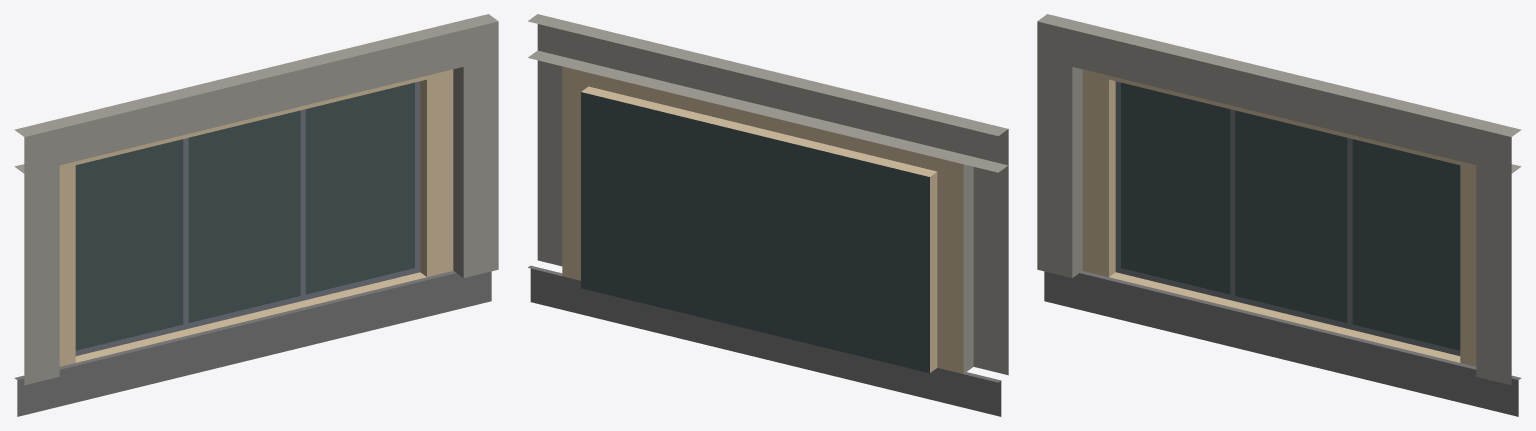
3 views of the same model, side by side, from view 1: azimuth 30°, elevation 25°; view 2: azimuth 150°, elevation 25°; view 3: azimuth 330°, elevation 25° (orthographic).
Parts seen in each view (by area): view 1: a2007/0/base-w1; view 2: a2007/0/base-w1; view 3: a2007/0/base-w1.
Part boxes in pixels (x1,y1,x2,y2): a2007/0/base-w1: (14,14,498,416); a2007/0/base-w1: (528,14,1008,416); a2007/0/base-w1: (1037,14,1521,416).
Bounding box in the file's own units: 5.4 × 3.1 × 0.35.
